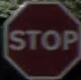Stop: (1, 0, 78, 74)
